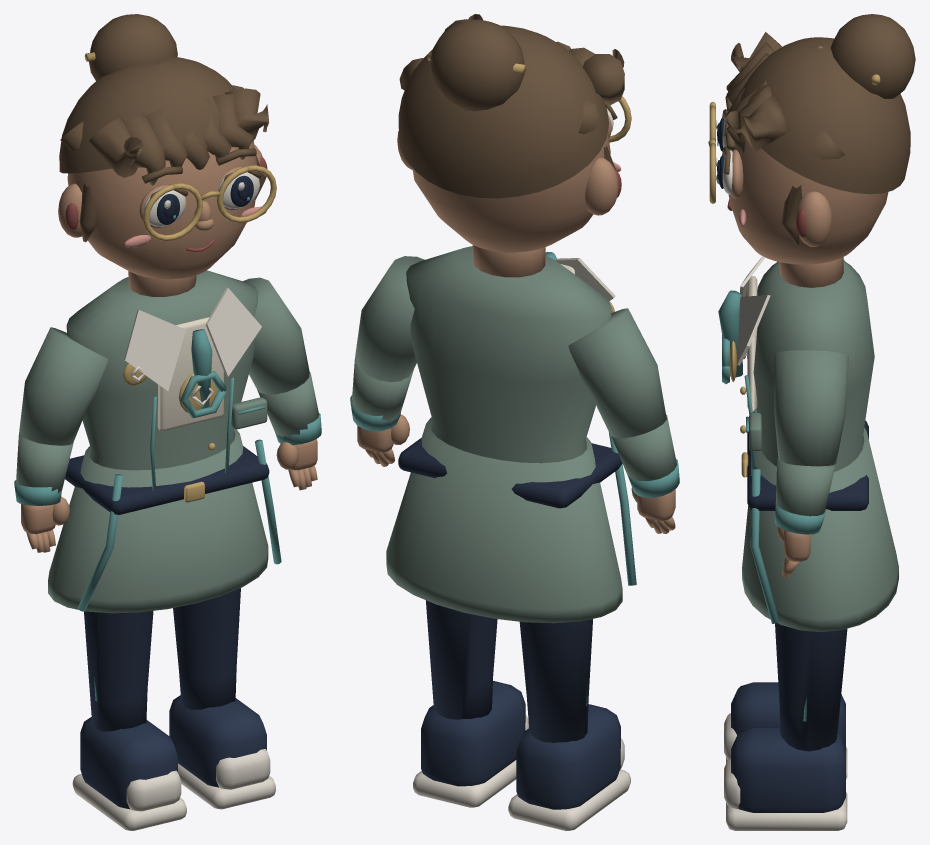
File: npc_hexruins_lieutenant_3.glb
3 renders of one model, left to right at view 1: azimuth 30°, elevation 25°; view 2: azimuth 150°, elevation 25°; view 3: azimuth 270°, elevation 25°, orthographic. The views are drawn at different scales.
Visible parts, largest first — view 1: figure.066; view 2: figure.066; view 3: figure.066.
Part boxes in pixels (x1,y1,x2,y2): figure.066: (14,14,321,830); figure.066: (350,14,679,830); figure.066: (708,14,915,830).
Bounding box in the file's own units: 0.7221 × 1.72 × 0.4156.
